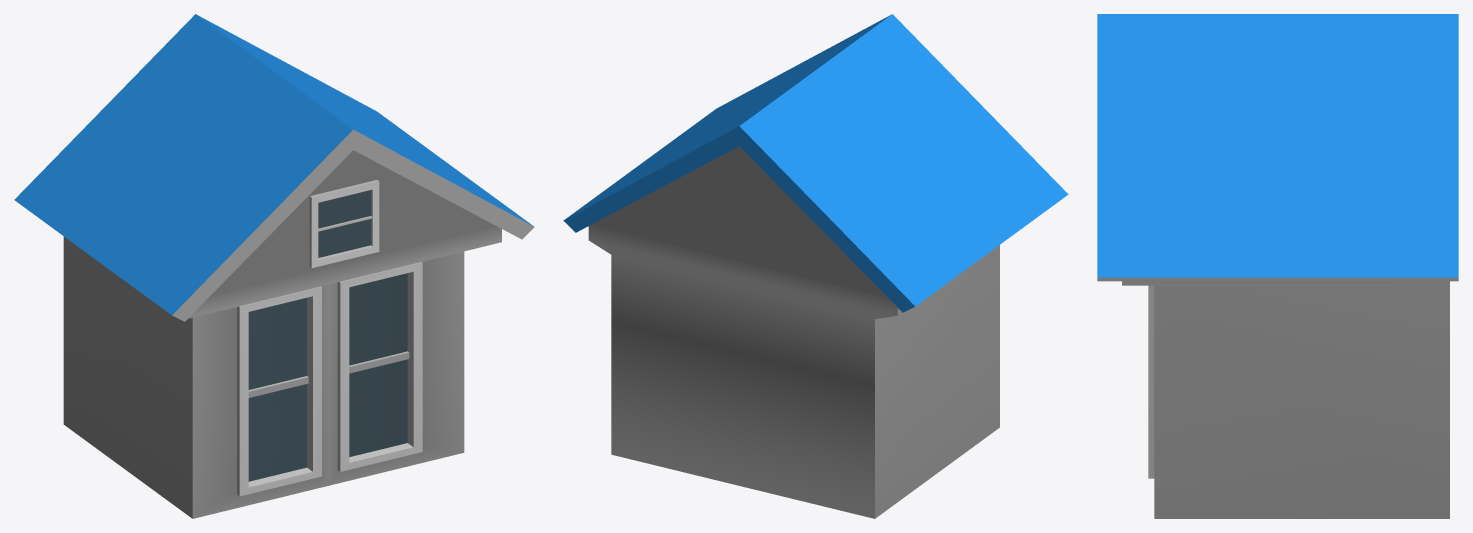
Rendered from house_024.glb.
The picture shows the model from 3 angles, left to right: view 1: azimuth 30°, elevation 25°; view 2: azimuth 150°, elevation 25°; view 3: azimuth 270°, elevation 25°; orthographic projection. The views are drawn at different scales.
Parts seen in each view (by area): view 1: house_024; view 2: house_024; view 3: house_024.
Boxes of the visible parts, x1,y1,x2,y2 form: house_024: (14, 14, 534, 518); house_024: (563, 14, 1068, 518); house_024: (1097, 14, 1458, 518).
Size of the model in its own units: 3.41 by 3.37 by 2.57.
Materials: 1 (1 with a texture image).
